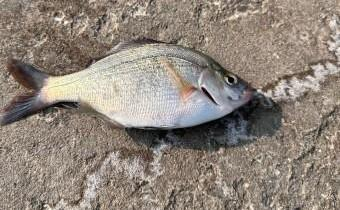fish: (0, 37, 255, 129)
